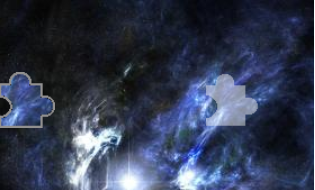target: (204, 71, 259, 130)
